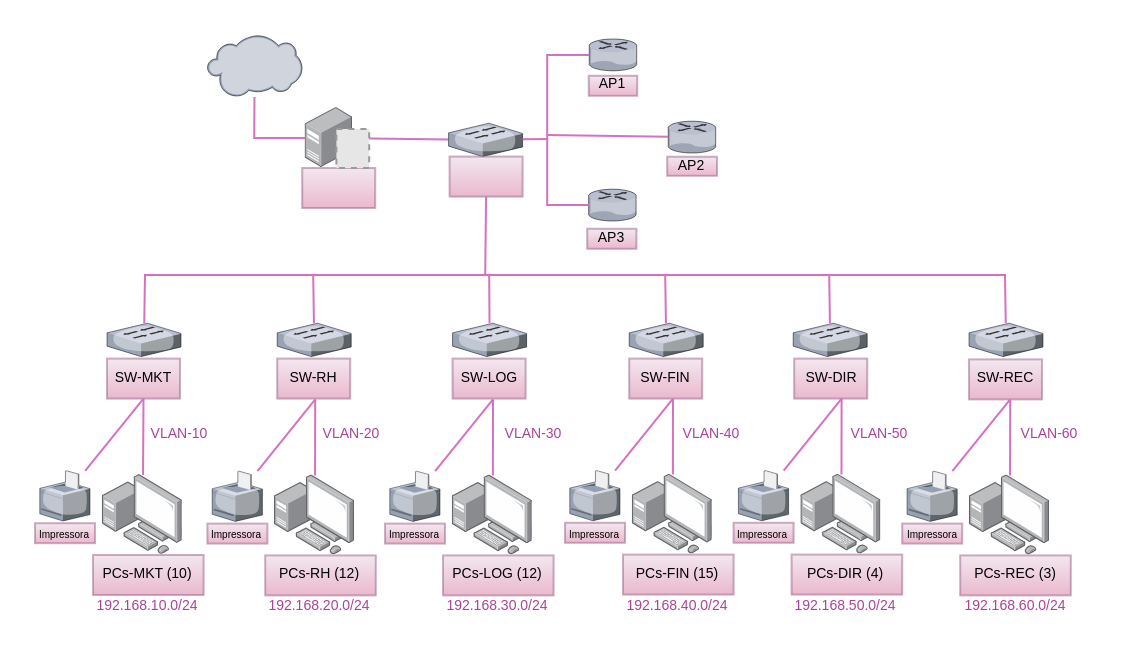
Image size: 1140x662. Some labels were removed from this diagram. Grey dashed boxes stand in for pictures. The centre of each missing label's shape, as x and y in pixels:
Firewall / Proxy: (x=337, y=187)
Internet: (x=253, y=65)
Switch Core: (x=485, y=176)
